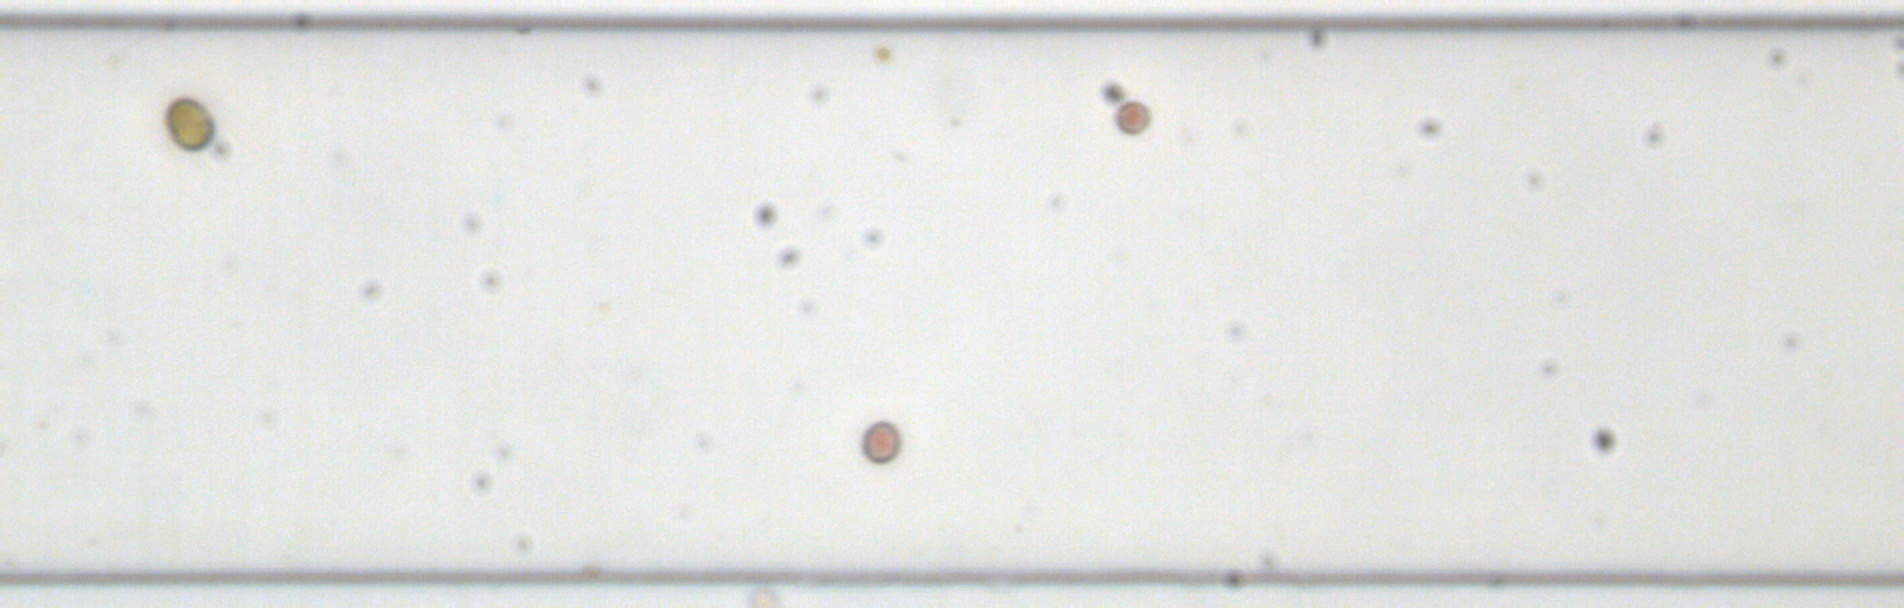Chlorella: (873, 42, 892, 62)
Effrenium: (161, 93, 215, 154)
Porphyridium: (857, 417, 903, 466), (1112, 97, 1152, 138)
